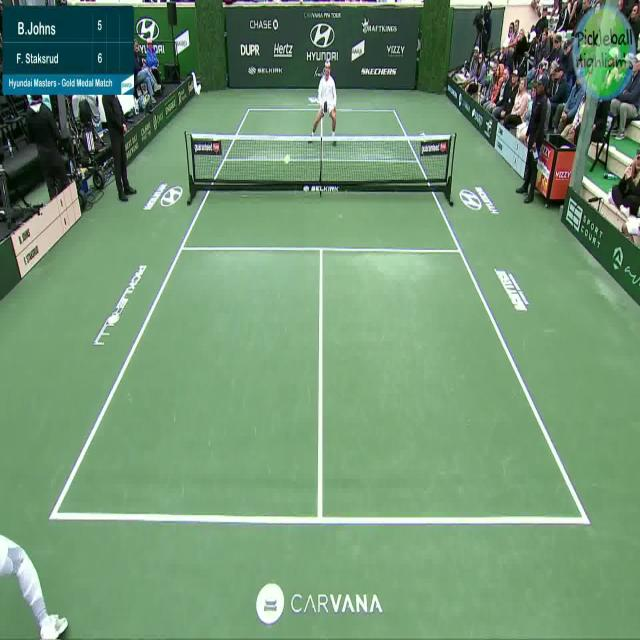ball: (283, 153, 292, 168)
